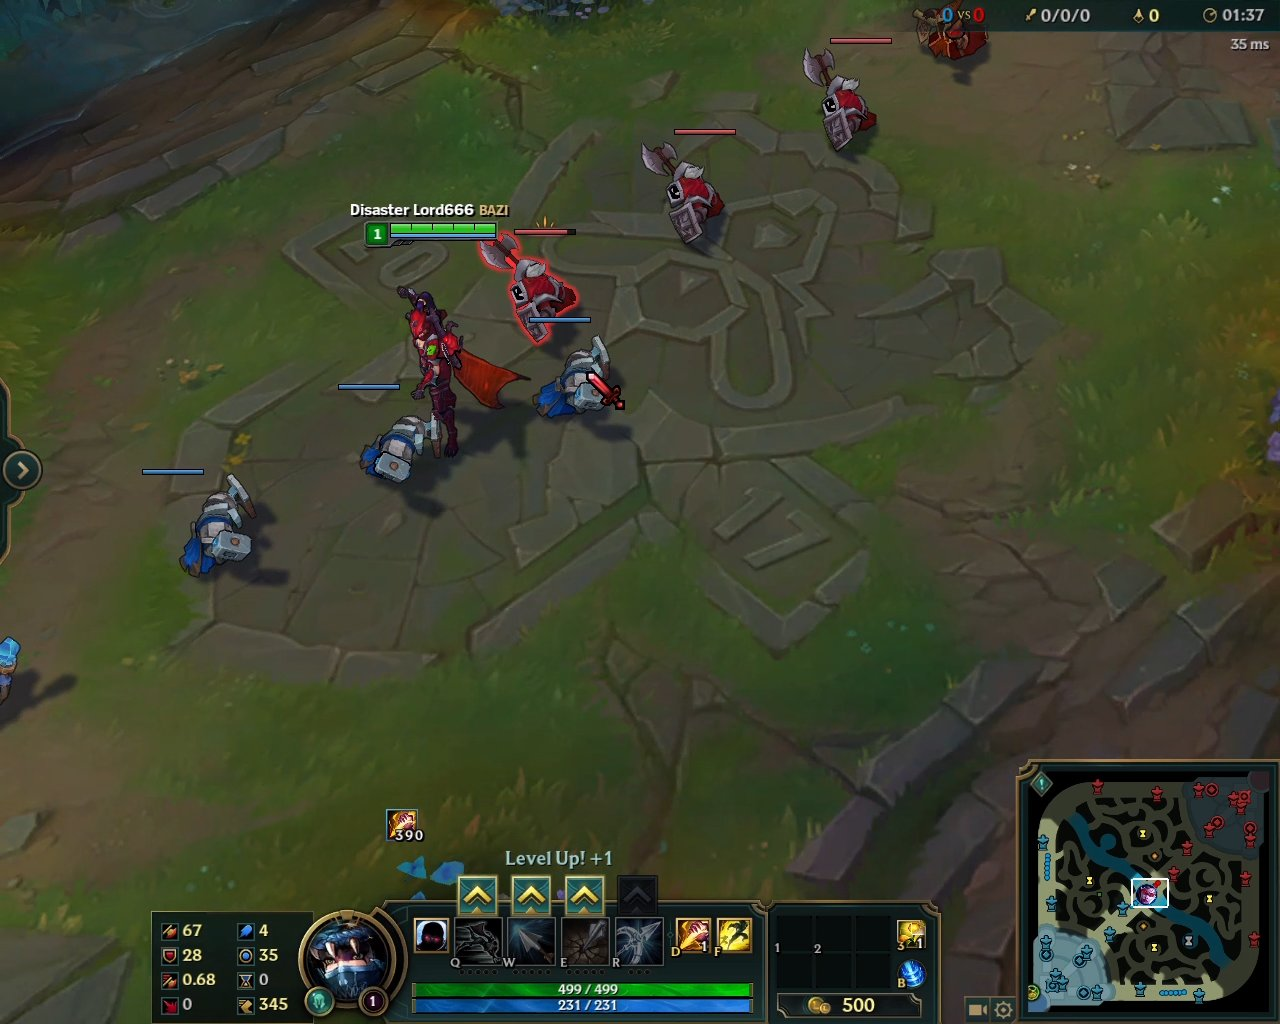EnemyMinion: (632, 127, 739, 254), (478, 223, 583, 347), (798, 33, 892, 154)
Vayne: (395, 282, 533, 458)
